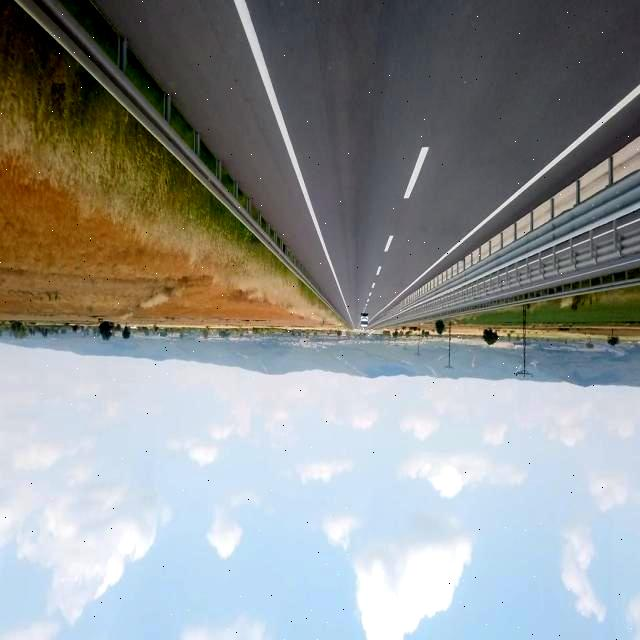lane: (385, 85, 639, 308), (232, 5, 331, 268), (404, 146, 429, 199)
road: (97, 1, 639, 325)
